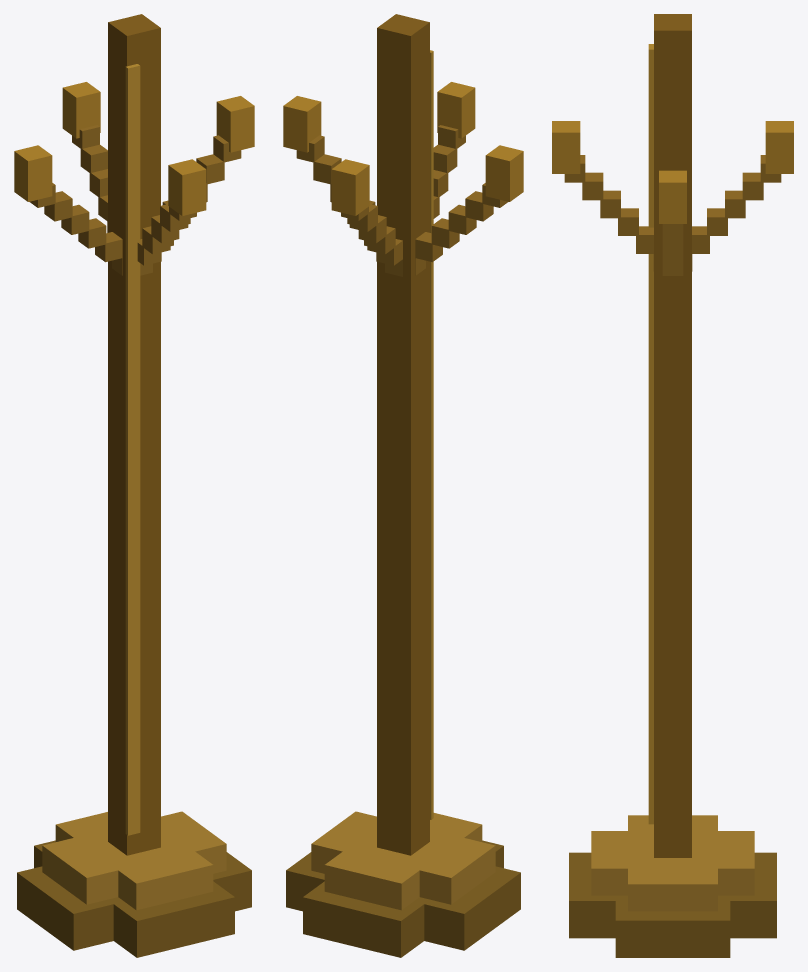
Rendered from CMU3DWoodenCoatStand.glb.
The picture shows the model from 3 angles, left to right: view 1: azimuth 30°, elevation 25°; view 2: azimuth 150°, elevation 25°; view 3: azimuth 270°, elevation 25°; orthographic projection.
Visible parts, largest first — view 1: coat stand central post, coat stand foot (×3), upper wooden base (×3), post bright edge, hook end (×4), rising coat hook (×6); view 2: coat stand central post, coat stand foot (×3), upper wooden base (×3), hook end (×4), rising coat hook (×6), post bright edge; view 3: coat stand central post, coat stand foot (×2), upper wooden base (×3), hook end (×3), post bright edge, rising coat hook (×6).
Part boxes in pixels (left/top/right/bottom): coat stand central post: left=108, top=14, right=160, bottom=855; coat stand foot (×3): left=17, top=840, right=251, bottom=957; upper wooden base (×3): left=42, top=811, right=226, bottom=910; post bright edge: left=125, top=64, right=140, bottom=835; hook end (×4): left=14, top=82, right=254, bottom=215; rising coat hook (×6): left=44, top=144, right=224, bottom=262; coat stand central post: left=377, top=14, right=429, bottom=855; coat stand foot (×3): left=286, top=840, right=520, bottom=957; upper wooden base (×3): left=311, top=811, right=495, bottom=910; hook end (×4): left=283, top=82, right=523, bottom=215; rising coat hook (×6): left=313, top=144, right=493, bottom=262; post bright edge: left=430, top=50, right=433, bottom=819; coat stand central post: left=654, top=14, right=691, bottom=857; coat stand foot (×2): left=569, top=852, right=776, bottom=957; upper wooden base (×3): left=591, top=815, right=754, bottom=911; hook end (×3): left=552, top=121, right=793, bottom=223; post bright edge: left=648, top=44, right=653, bottom=824; rising coat hook (×6): left=582, top=172, right=763, bottom=235.
Size of the model in its own units: 0.47 by 1.75 by 0.43.
